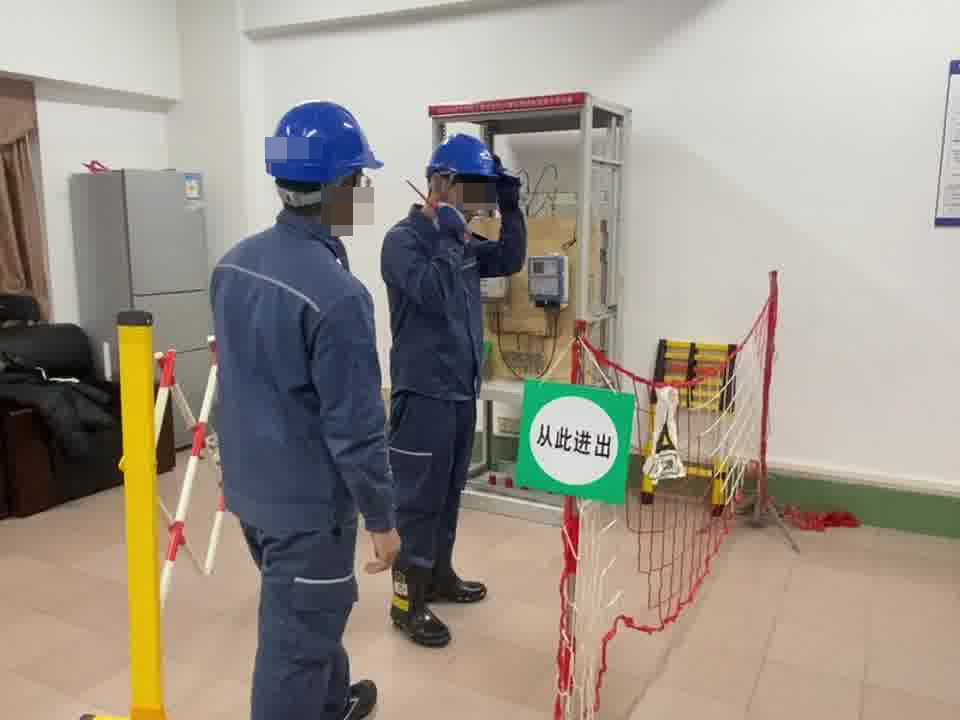downsuit: (243, 522, 362, 720), (390, 405, 475, 591)
glove: (492, 151, 524, 213)
halt: (263, 98, 386, 232), (423, 132, 501, 217)
hand: (353, 521, 406, 574)
inear: (315, 169, 362, 240), (429, 171, 457, 226)
intosign: (514, 372, 637, 508)
person: (203, 93, 389, 720), (379, 130, 529, 647)
shoe: (390, 538, 488, 646)
upsuit: (207, 222, 384, 518), (381, 205, 528, 399)
wglove: (429, 200, 468, 238)
